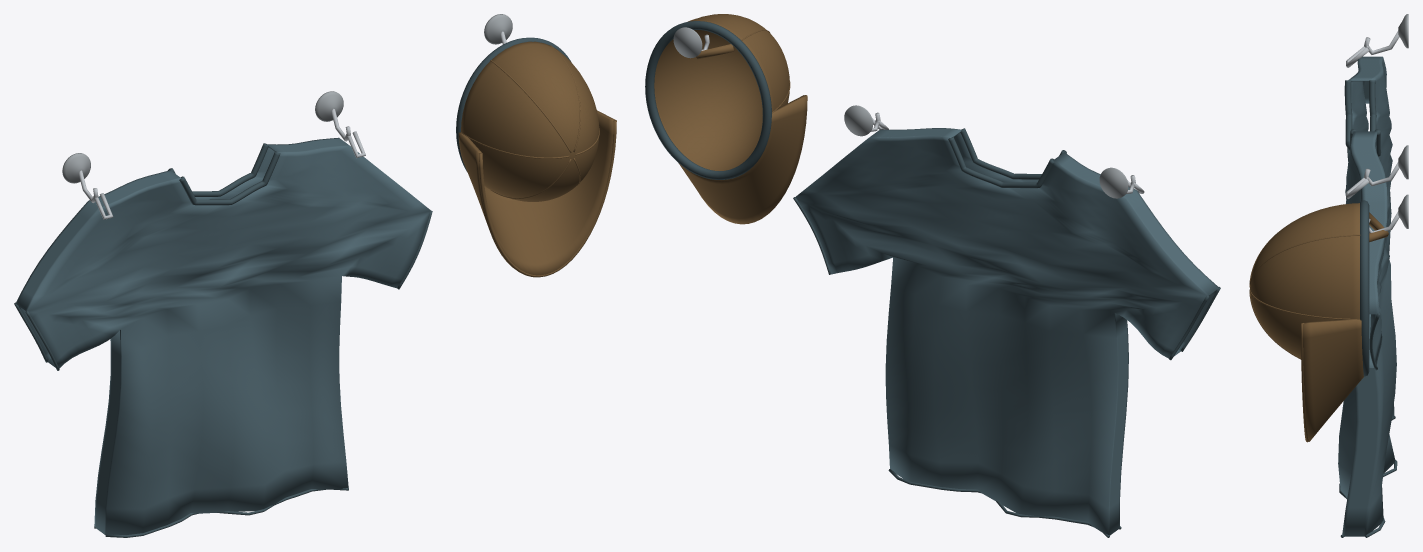
The model's file is counter-apparel.glb.
3 renders of one model, left to right at view 1: azimuth 30°, elevation 25°; view 2: azimuth 150°, elevation 25°; view 3: azimuth 270°, elevation 25°, orthographic. The views are drawn at different scales.
Parts seen in each view (by area): view 1: ShirtCotton, CapTwill, RibAndStitch, SuctionRubber, SatinNickel; view 2: ShirtCotton, CapTwill, RibAndStitch, SuctionRubber; view 3: CapTwill, ShirtCotton, RibAndStitch, SatinNickel, SuctionRubber.
Part boxes in pixels (box(x1,y1,x2,y2)): ShirtCotton: box(15, 137, 430, 534); CapTwill: box(458, 41, 616, 277); RibAndStitch: box(14, 37, 571, 537); SuctionRubber: box(62, 14, 512, 183); SatinNickel: box(79, 31, 506, 219); ShirtCotton: box(795, 128, 1218, 535); CapTwill: box(654, 14, 807, 224); RibAndStitch: box(645, 21, 1220, 537); SuctionRubber: box(673, 27, 1128, 198); CapTwill: box(1249, 203, 1388, 442); ShirtCotton: box(1338, 56, 1396, 536); RibAndStitch: box(1339, 80, 1397, 537); SatinNickel: box(1346, 30, 1399, 233); SuctionRubber: box(1398, 14, 1408, 228).
Size of the model in its own units: 3.47 by 2.38 by 0.7893.
Materials: 5 (3 with a texture image).
